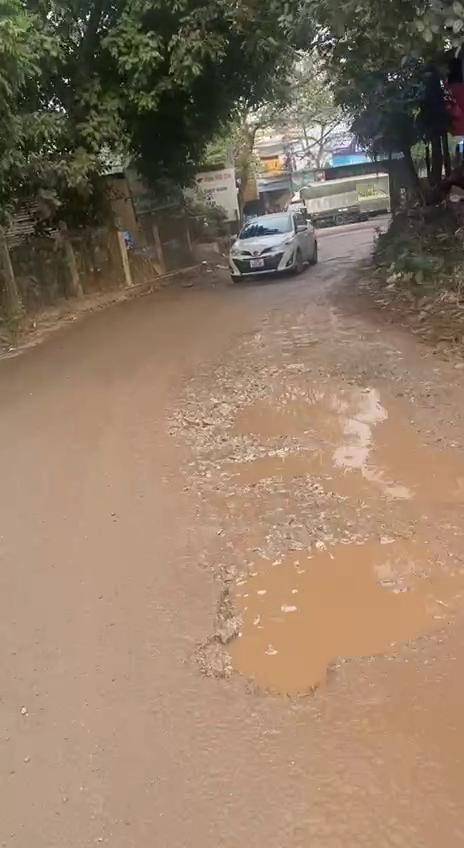pothole: (181, 522, 464, 708), (176, 362, 464, 526)
